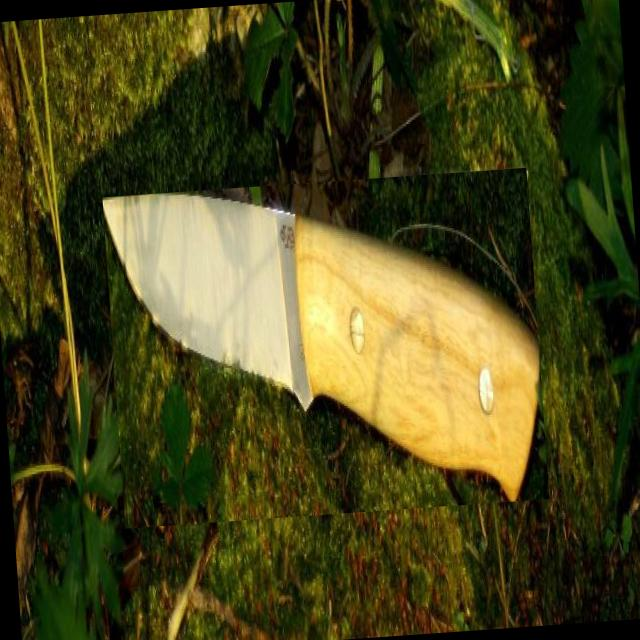Knife: (102, 195, 539, 501)
